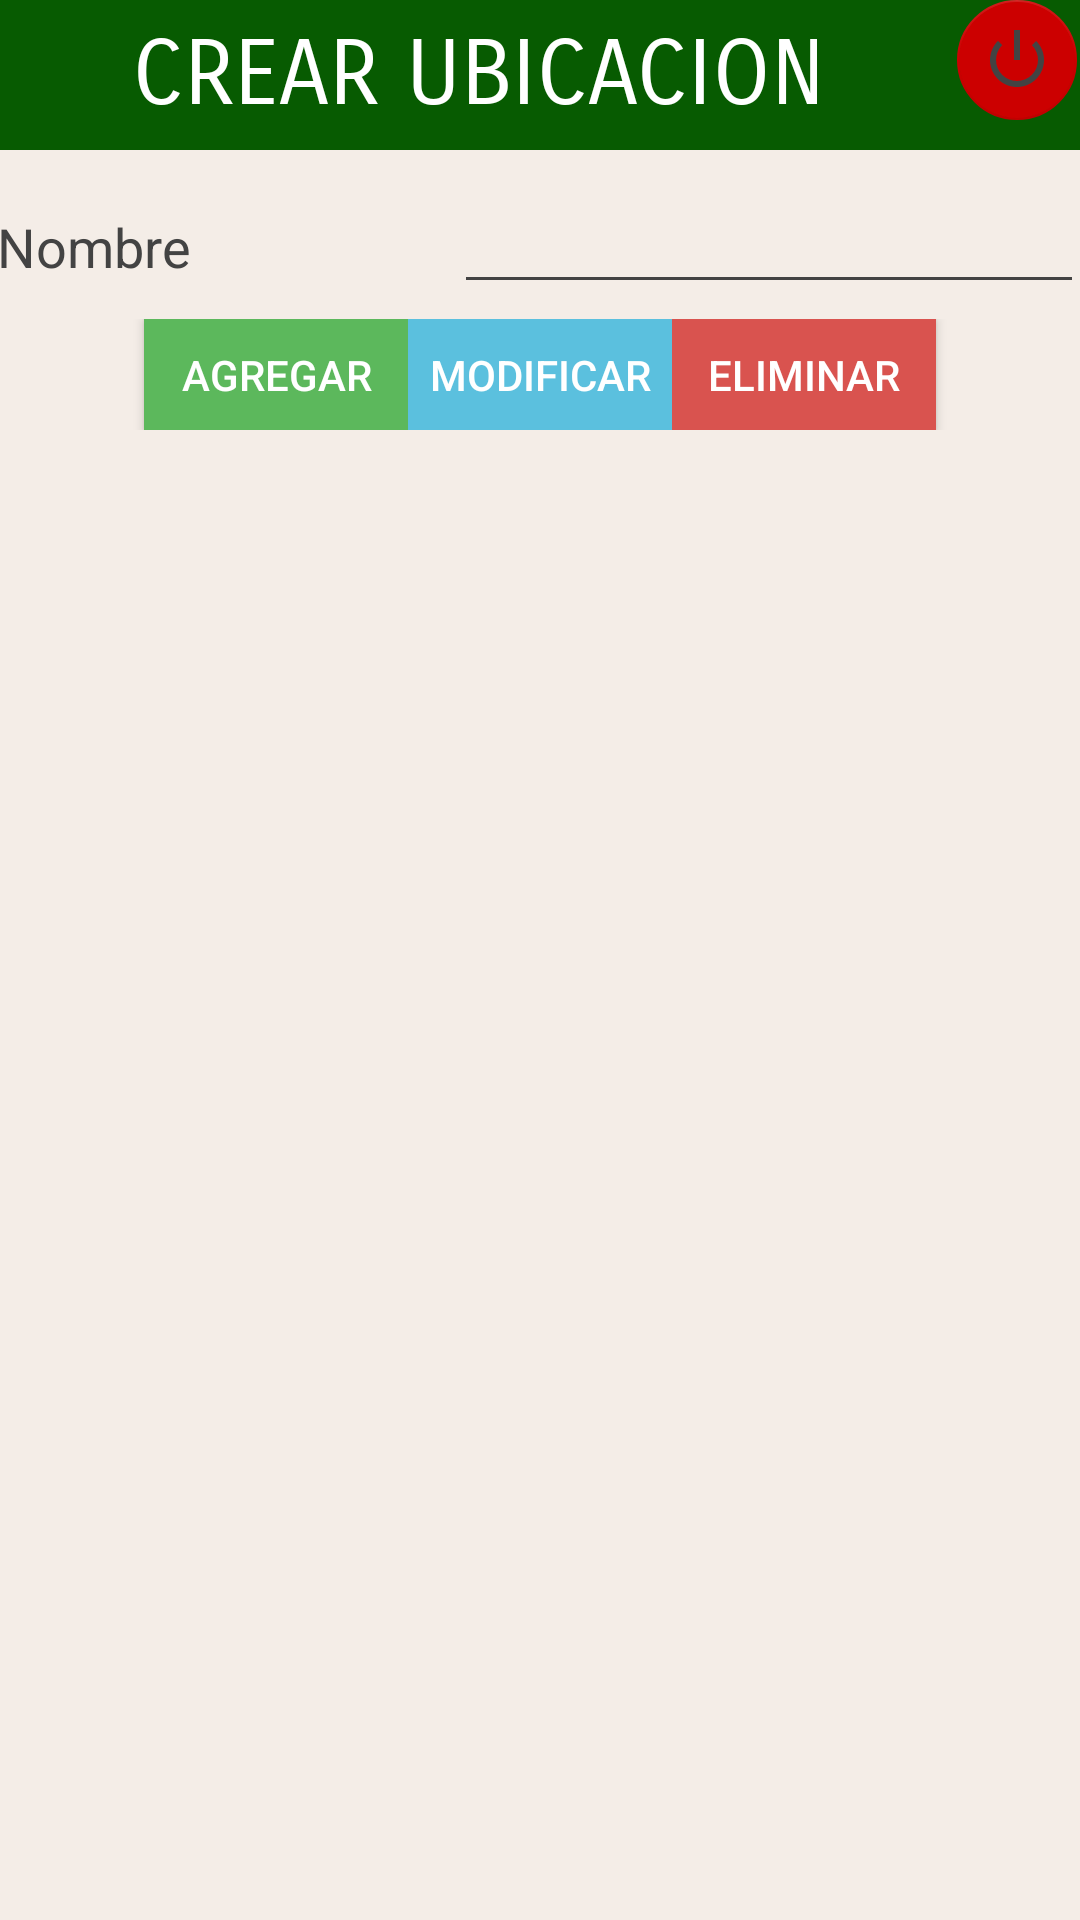

Icons on this 1080*1920 Android screen, each with the point to tap as (x=x, y=y):
lock power off: (x=1017, y=60)
